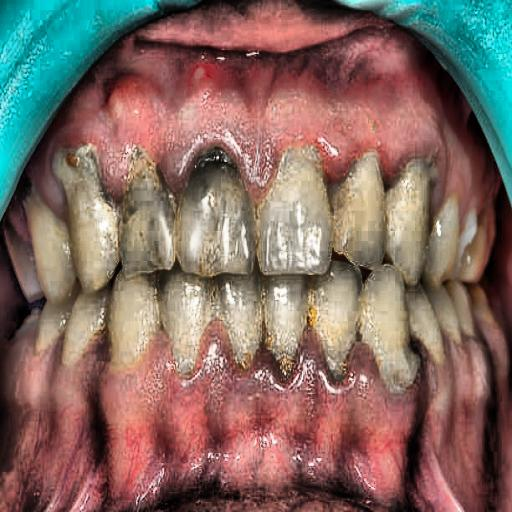Gingivitis: (33, 333, 435, 468), (63, 18, 341, 179)
